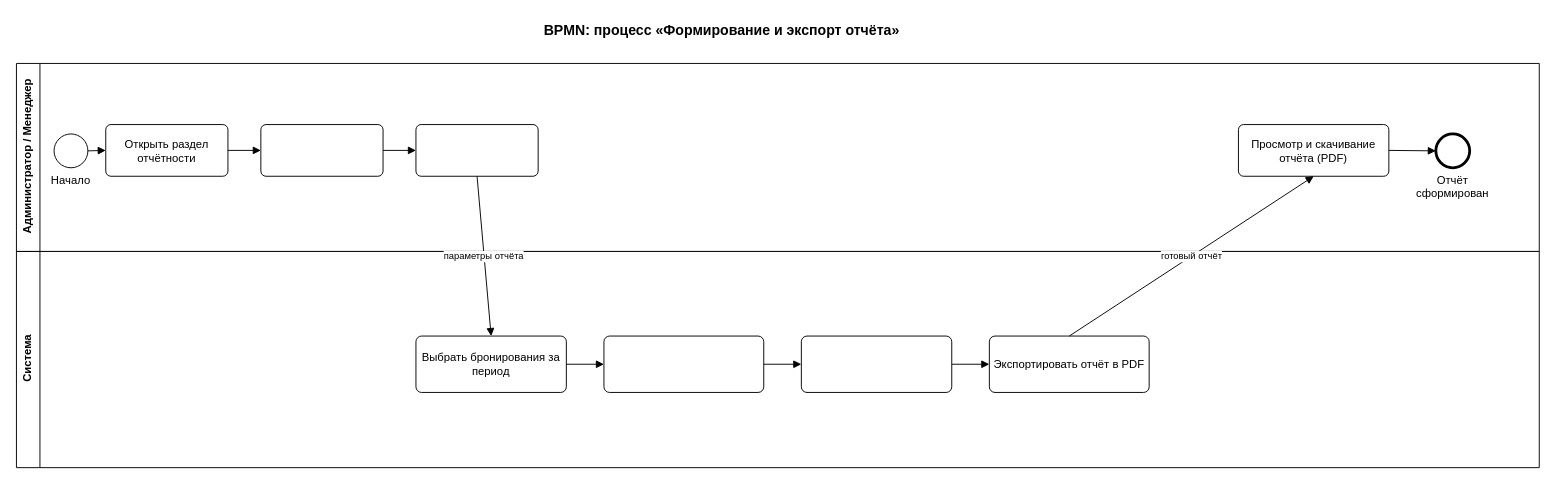
This 1556x484 diagram has some shape labels left out. Here are the shapes that lost their labels. From the top down, the centre of each, then its label:
At point (321, 150): "Выбрать период (даты)".
At point (476, 150): "Нажать «Сформировать отчёт»".
At point (683, 363): "Рассчитать показатели (брони, загрузка, доход)".
At point (876, 363): "Сформировать таблицы и графики".
